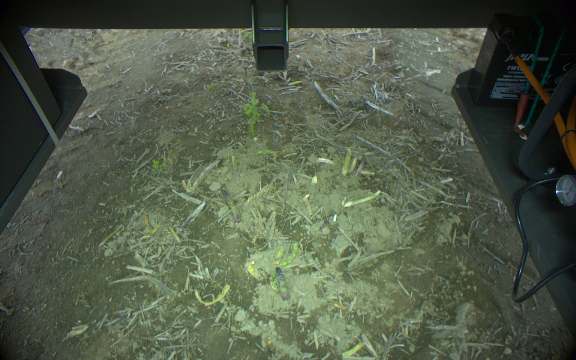aspa: (221, 188, 240, 223), (344, 190, 379, 207), (273, 266, 289, 301), (341, 341, 368, 360), (341, 148, 351, 174), (355, 156, 366, 178), (229, 153, 238, 172)
